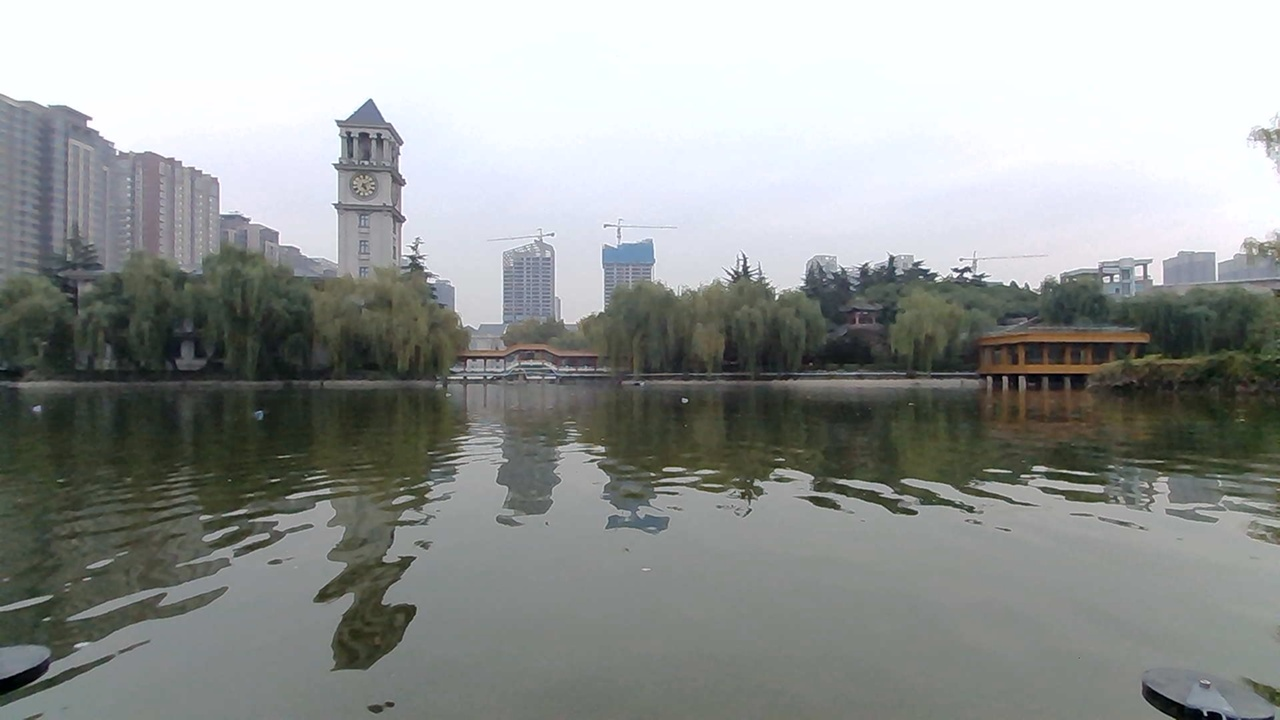bottle: (24, 394, 60, 418), (253, 400, 287, 422), (669, 390, 705, 409)
